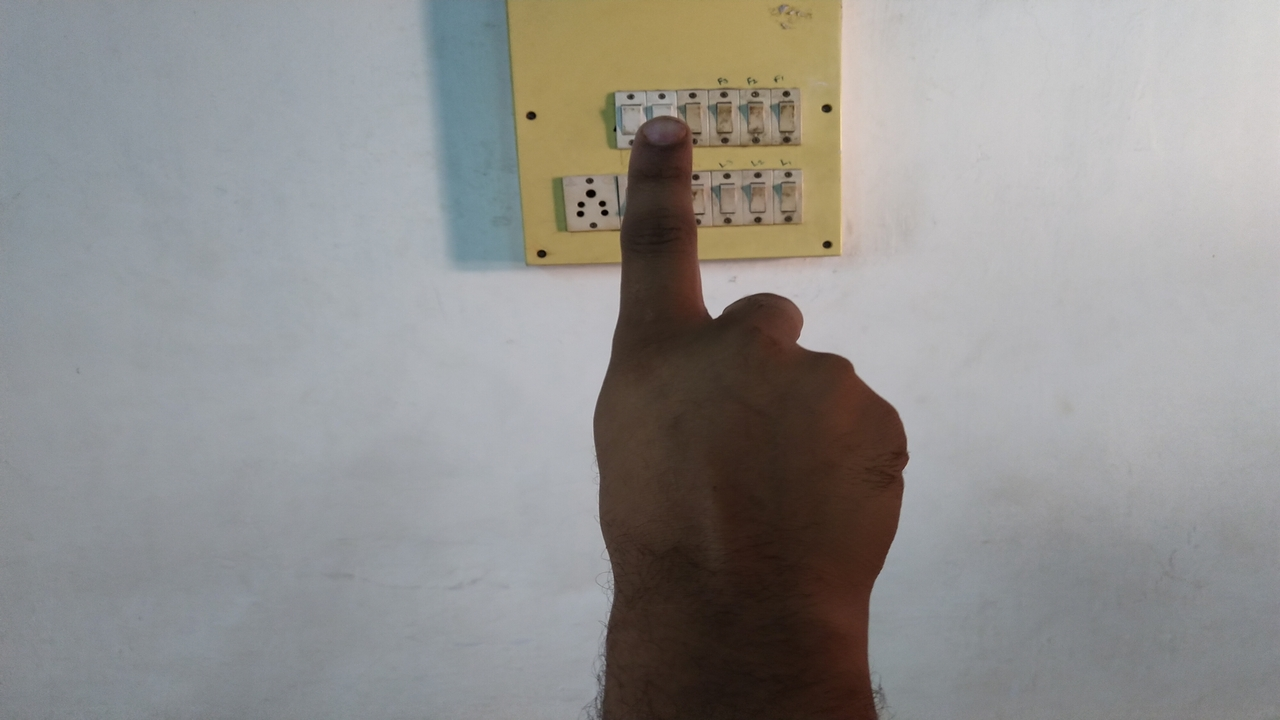fingertip: (634, 116, 692, 166)
